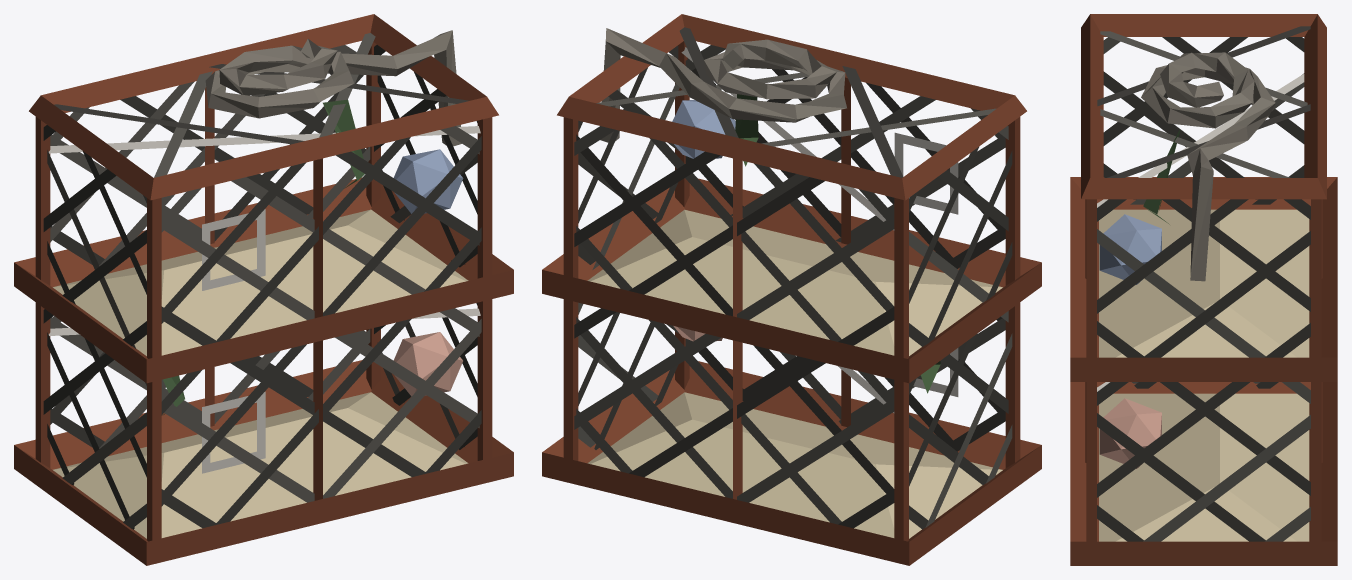
The model's file is pf-lobster-pot-stack-d870f0.glb.
3 renders of one model, left to right at view 1: azimuth 30°, elevation 25°; view 2: azimuth 150°, elevation 25°; view 3: azimuth 270°, elevation 25°, orthographic.
Visible parts, largest first — view 1: pot-stack, rope-coil, rope-end-mesh; view 2: pot-stack, rope-coil; view 3: pot-stack, rope-coil, rope-end-mesh.
Boxes of the visible parts, x1,y1,x2,y2 form: pot-stack: (14, 14, 513, 565); rope-coil: (205, 30, 452, 118); rope-end-mesh: (434, 31, 461, 146); pot-stack: (542, 14, 1041, 565); rope-coil: (605, 28, 846, 122); pot-stack: (1070, 14, 1337, 565); rope-coil: (1141, 52, 1275, 175); rope-end-mesh: (1190, 166, 1213, 281).
Size of the model in its own units: 0.8184 by 0.8659 by 0.5.
